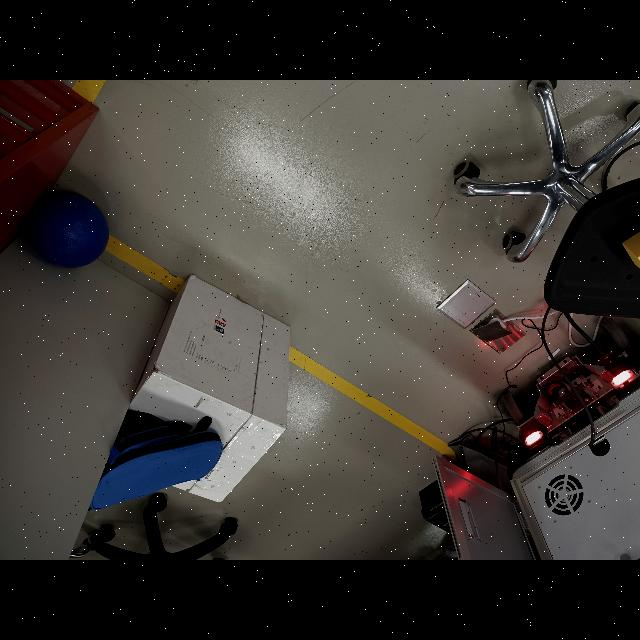B: (22, 188, 112, 270)
